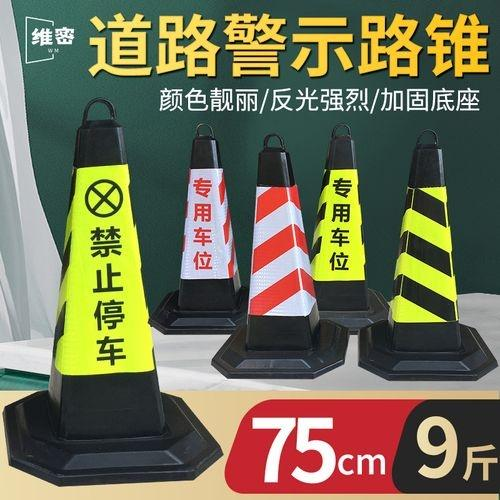cone_barrel: (27, 101, 183, 471), (371, 134, 486, 372), (222, 137, 332, 363), (166, 129, 244, 321), (304, 127, 377, 319)
